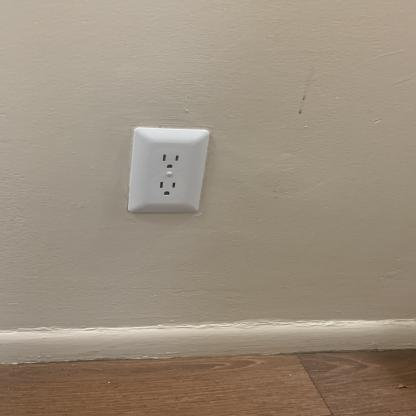OUTLET: (128, 126, 203, 214)
